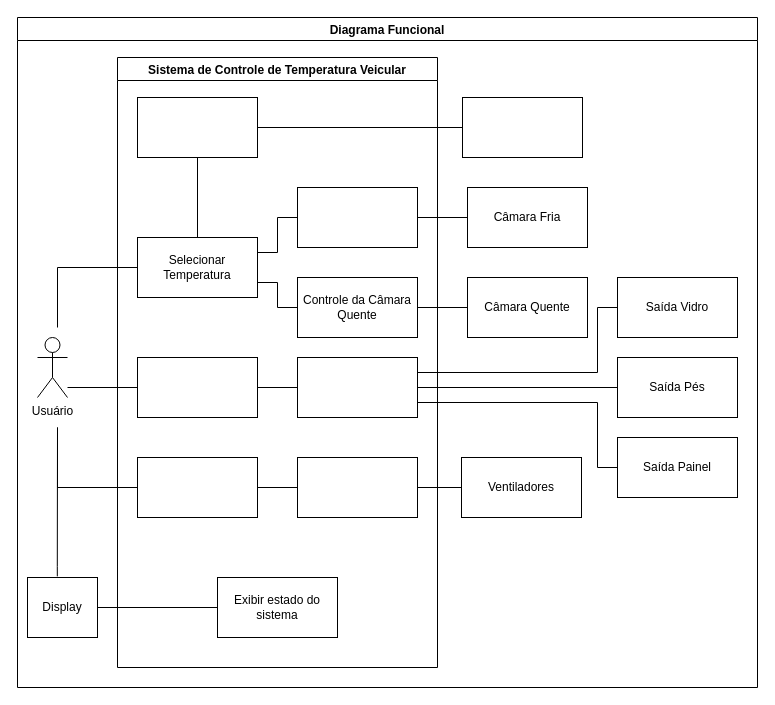
Some shapes in this 775 by 705 pixel diagram are drawn without their labels. Each missing label, with the centre of its shape:
"Controle da Abertura/Fechamento das saídas de ar" goes at (x=357, y=387).
"Controle da Câmara Fria" goes at (x=357, y=217).
"Controle do Aumento/Diminuição da velocidade dos ventiladores" goes at (x=357, y=487).
"Monitorar Temperatura" goes at (x=197, y=127).
"Selecionar Saída de Ar" goes at (x=197, y=387).
"Selecionar Velocidade do Ventilador" goes at (x=197, y=487).
"Sensor de Temperatura" goes at (x=522, y=127).
